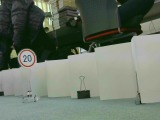speed_20: (17, 48, 37, 68)
